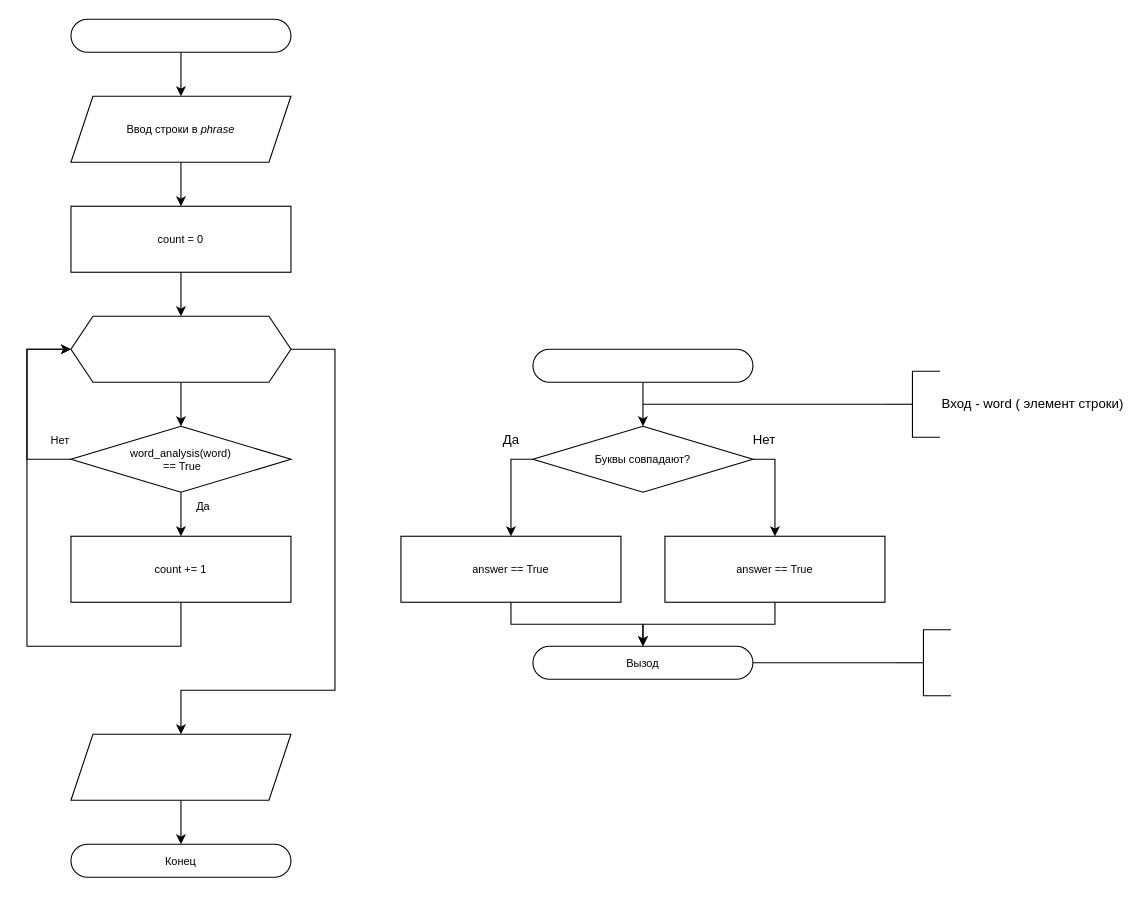
Image size: 1143x897. Some labels were removed from this diagram. Each missing label, with the centre of its shape:
"Вход" belongs at (x=642, y=365).
"Вывод count" belongs at (x=180, y=766).
"Выход answer (True / False)" belongs at (x=923, y=662).
"Начало" belongs at (x=180, y=35).
"Цикл for для элементов массива phrase" belongs at (x=180, y=348).
